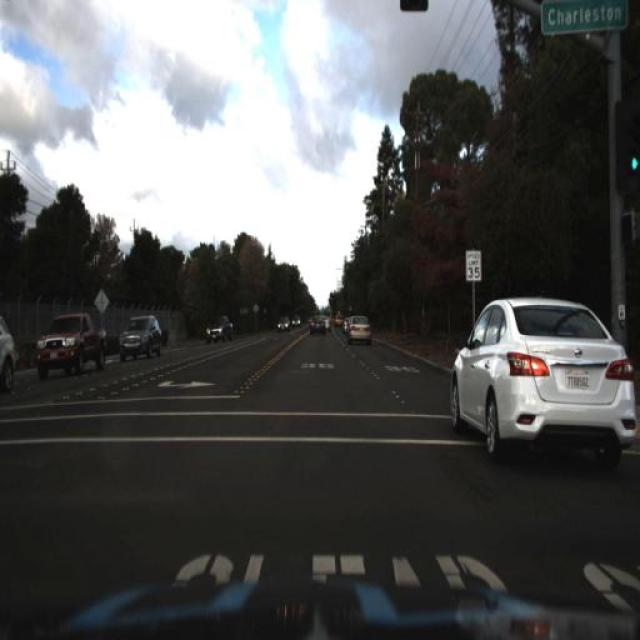car: (436, 273, 640, 479), (31, 303, 110, 389), (114, 307, 168, 363), (0, 305, 32, 392), (198, 308, 234, 356), (341, 308, 378, 344), (307, 310, 331, 340), (276, 316, 292, 334)
